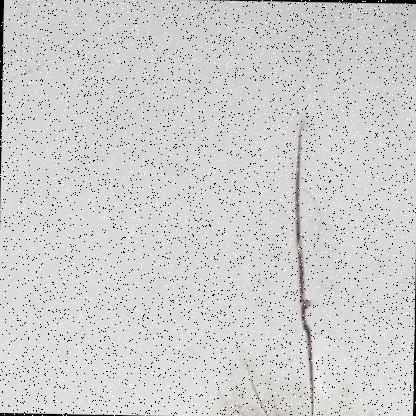Crack: (267, 96, 366, 415), (227, 345, 277, 415)
